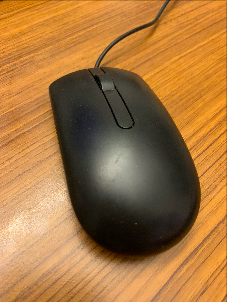object_name: (49, 67, 202, 259)
